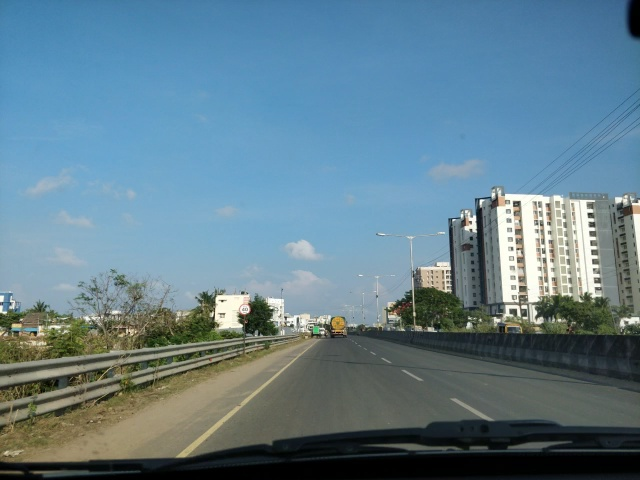auto: (496, 324, 522, 342)
car: (317, 328, 326, 337)
motorbike: (325, 329, 328, 338)
truck: (330, 318, 346, 338)
